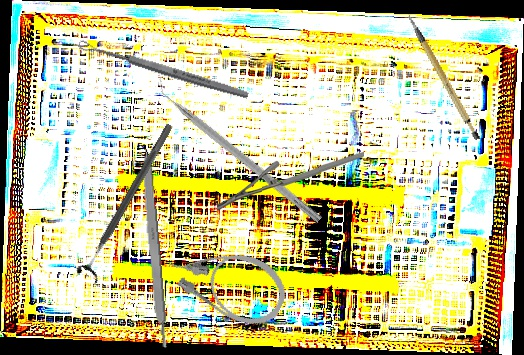Cannula: (158, 224, 296, 337)
Chopper: (151, 73, 330, 224)
Fixation Ring: (73, 118, 182, 285)
Needle Holder: (216, 151, 365, 212)
Scalpel Handle: (406, 5, 483, 148), (138, 148, 169, 351)
Surgical Spoon: (77, 38, 250, 101)
